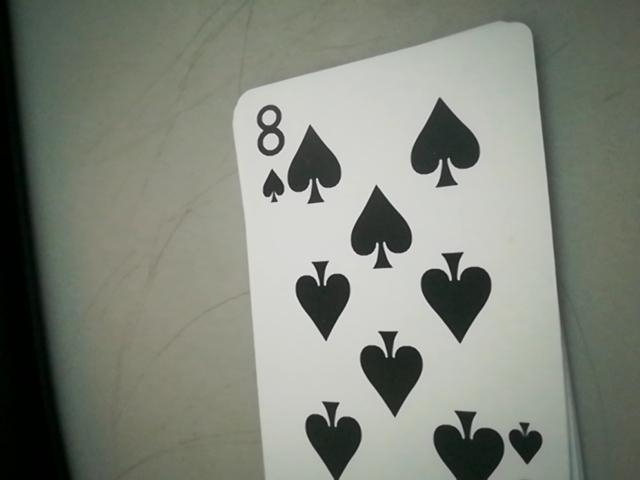ht 8: (244, 96, 300, 212)
